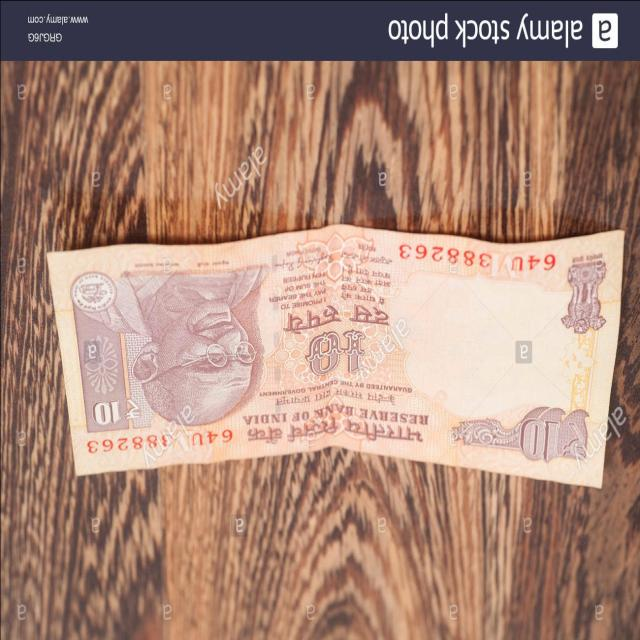10IndianRupees: (45, 224, 624, 470)
